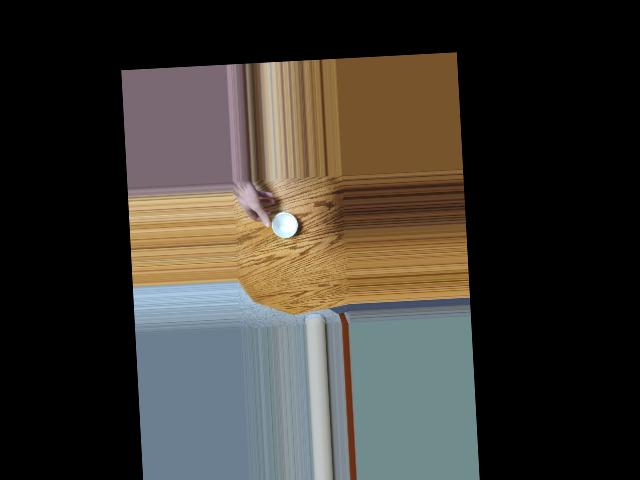cotage: (263, 206, 301, 244)
